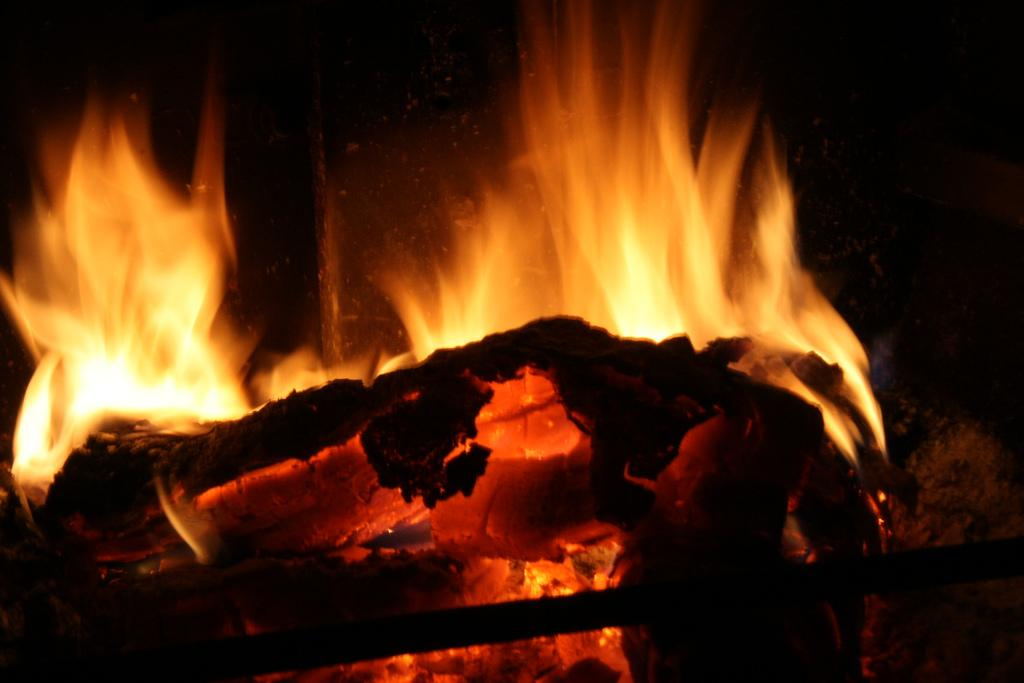fire: (533, 73, 713, 337), (35, 192, 203, 417)
